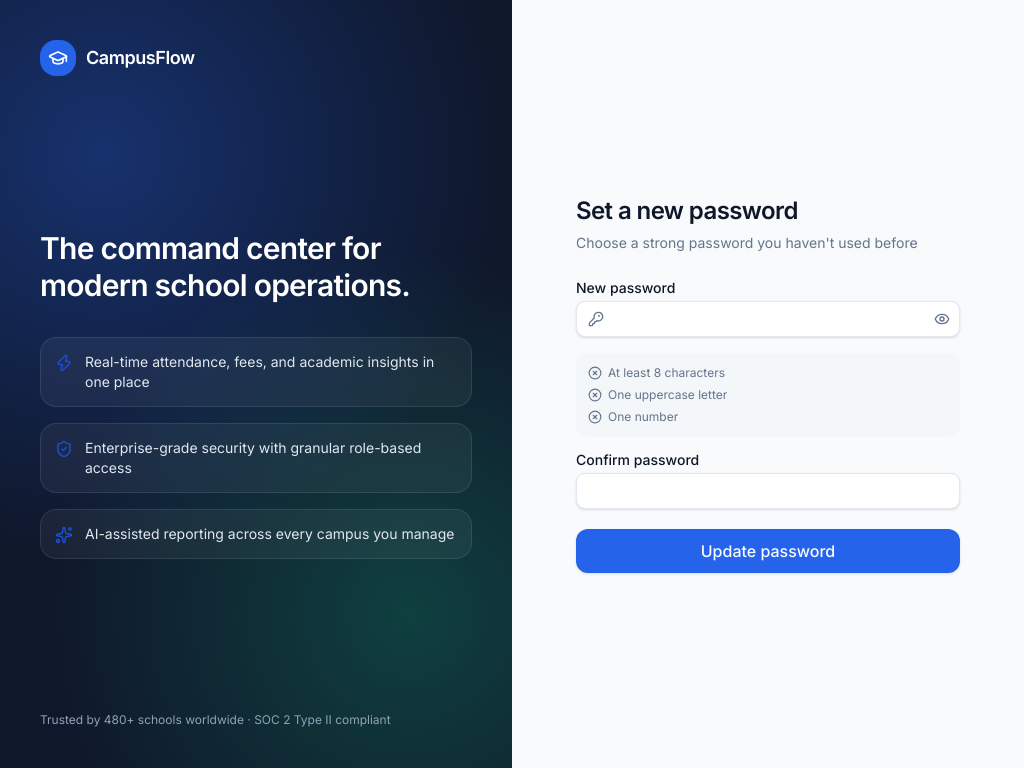
ResetPasswordPage › shows a validation error when the password is too short
The width and height of the screenshot is (1024, 768).
In the password field labelled "New password": (768, 319) [576, 301, 960, 337], type "short1"
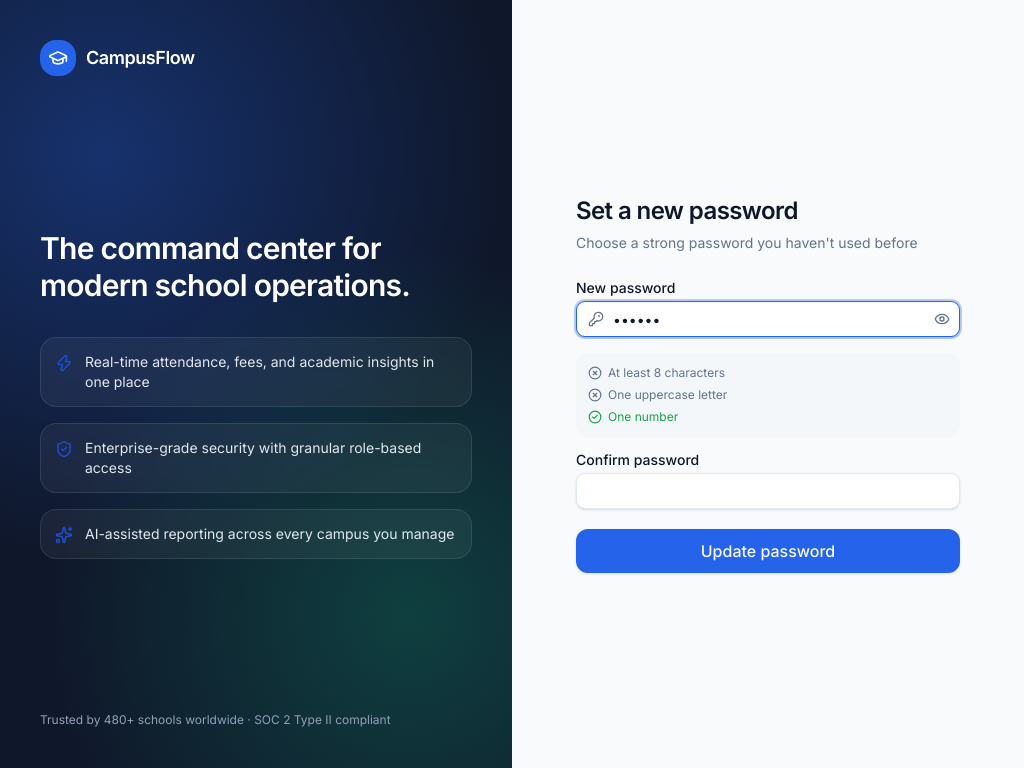
In the password field labelled "Confirm password": (768, 491) [576, 473, 960, 509], type "short1"
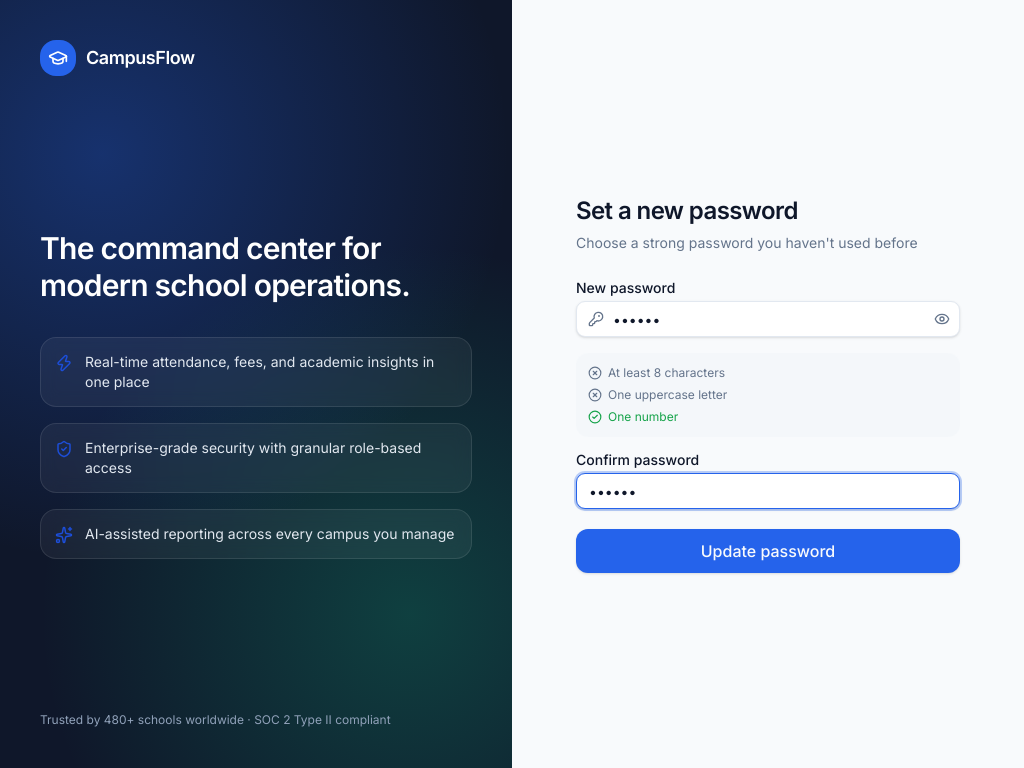
Click the button "Update password": (768, 551) [576, 529, 960, 573]
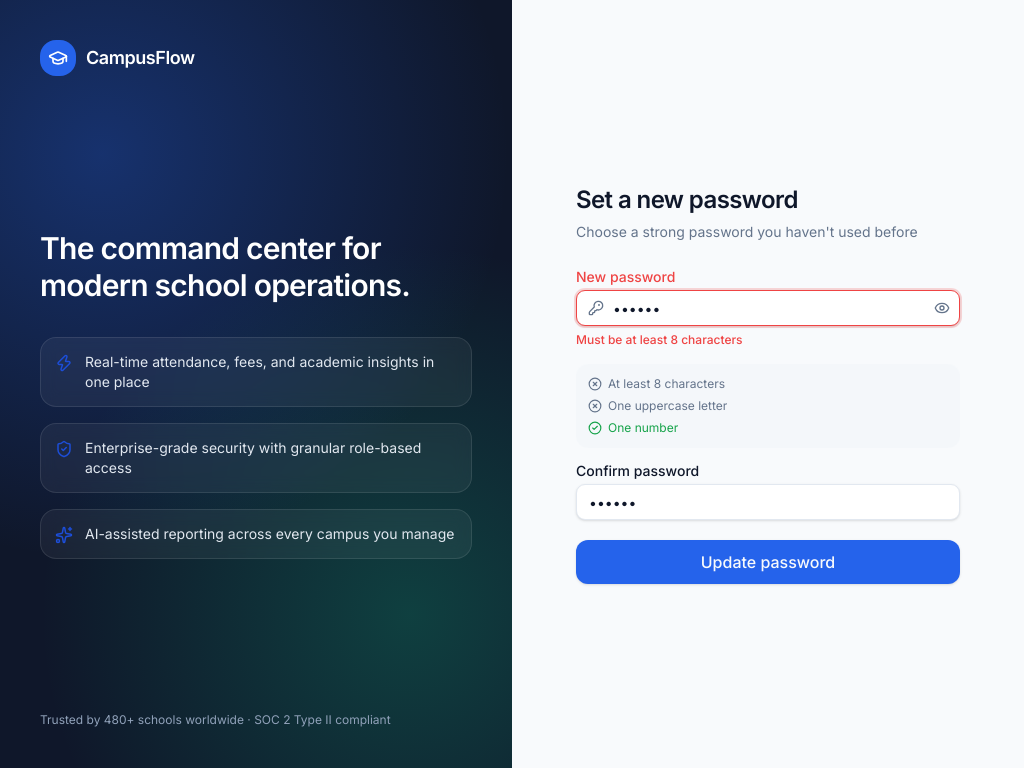
Check: the text "Must be at least 8 characters" is shown, box [576, 332, 743, 347]
